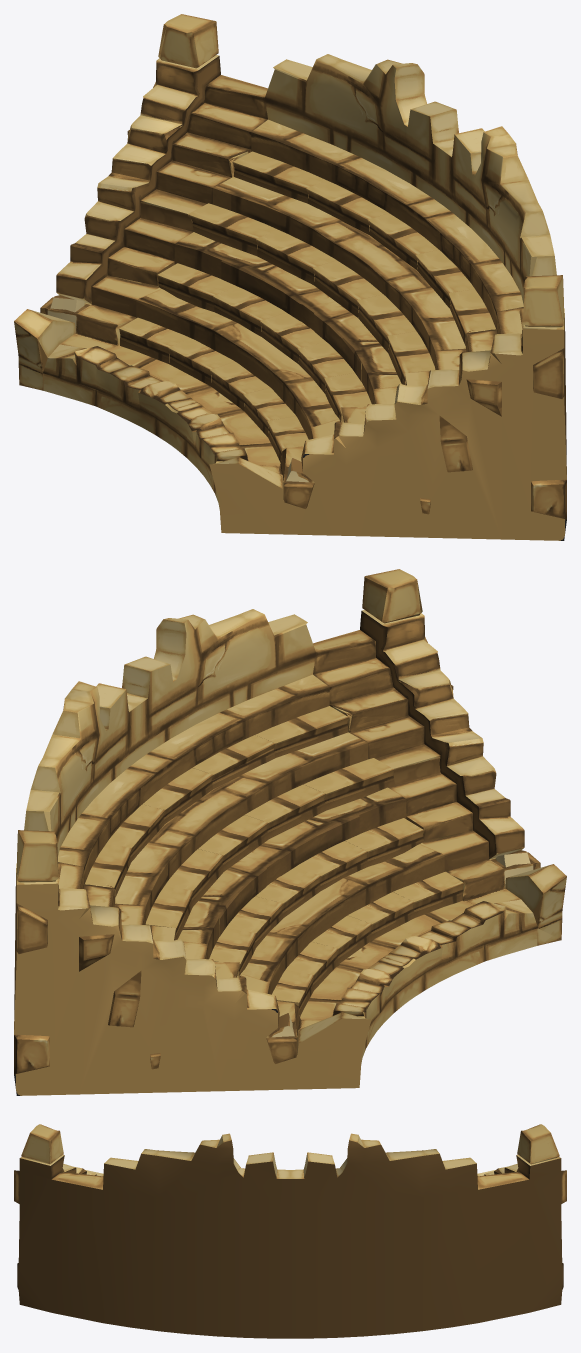
Rendered from SM_Tribune_polish.FBX.
3 views of the same model, one above another, from view 1: azimuth 30°, elevation 25°; view 2: azimuth 150°, elevation 25°; view 3: azimuth 270°, elevation 25° (orthographic). The views are drawn at different scales.
Visible parts, largest first — view 1: Gradin; view 2: Gradin; view 3: Gradin.
Boxes of the visible parts, <box> form: Gradin: <box>14,14,566,540</box>; Gradin: <box>14,569,566,1095</box>; Gradin: <box>14,1124,566,1338</box>.
Size of the model in its own units: 1053 by 790 by 2026.
